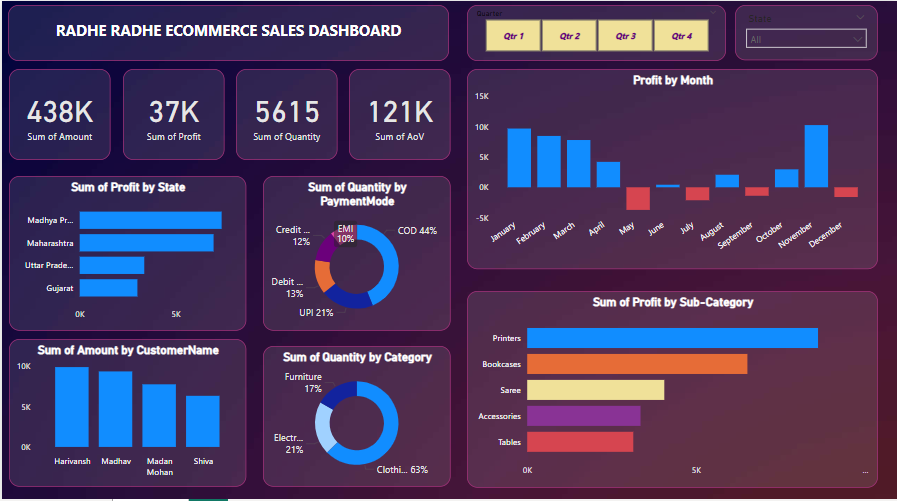

This screenshot's page, from the dashboard's own definition file:
{"tool":"powerbi","page":{"name":"Page 1","canvas":[1280,720],"ordinal":0},"visuals":[{"type":"textbox","box":[9,6,630,80],"z":0},{"type":"columnChart","title":"Profit by Month","fields":{"Category":["Orders.Order Date.Variation.Date Hierarchy.Month"],"Y":["Details.Profit"]},"box":[664.7,97.8,586.8,286.3],"z":1000},{"type":"barChart","fields":{"Category":["Details.Sub-Category"],"Y":["Details.Profit"]},"box":[664.7,413.9,586.8,280.6],"z":2000},{"type":"donutChart","fields":{"Category":["Details.Category"],"Y":["Details.Quantity"]},"box":[372.8,493.2,267.9,201.3],"z":3000},{"type":"donutChart","fields":{"Y":["Details.Quantity"],"Category":["Details.PaymentMode"]},"box":[372.8,249.4,267.9,221.1],"z":4000},{"type":"card","fields":{"Values":["Details.Amount"]},"box":[9.9,97.8,145,130],"z":5000},{"type":"card","fields":{"Values":["Details.Profit"]},"box":[172.9,97.8,145,130],"z":6000},{"type":"card","fields":{"Values":["Details.Quantity"]},"box":[334.5,97.8,145,130],"z":7000},{"type":"card","fields":{"Values":["Details.AoV"]},"box":[496.1,97.8,145,130],"z":8000},{"type":"barChart","fields":{"Y":["Details.Profit"],"Category":["Orders.State"]},"box":[9.9,249.4,338.7,221.1],"z":9000},{"type":"columnChart","fields":{"Category":["Orders.CustomerName"],"Y":["Details.Amount"]},"box":[9.9,483.3,338.7,211.2],"z":10000},{"type":"slicer","fields":{"Values":["Orders.Order Date.Variation.Date Hierarchy.Quarter"]},"box":[664.7,5.7,370,80],"z":11000},{"type":"slicer","fields":{"Values":["Orders.State"]},"box":[1047.4,5.7,204.1,79.4],"z":12000}]}

Visuals, with their boxes in screenshot pixels (x1, y1, x2, y2), scaled from the page's 1280x720 canvas onto the 897x501 screenshot:
textbox: BBox(6, 4, 448, 60)
"Profit by Month" columnChart: BBox(466, 68, 877, 267)
barChart - Details.Sub-Category x Details.Profit: BBox(466, 288, 877, 483)
donutChart - Details.Category x Details.Quantity: BBox(261, 343, 449, 483)
donutChart - Details.Quantity x Details.PaymentMode: BBox(261, 174, 449, 327)
card - Details.Amount: BBox(7, 68, 109, 159)
card - Details.Profit: BBox(121, 68, 223, 159)
card - Details.Quantity: BBox(234, 68, 336, 159)
card - Details.AoV: BBox(348, 68, 449, 159)
barChart - Details.Profit x Orders.State: BBox(7, 174, 244, 327)
columnChart - Orders.CustomerName x Details.Amount: BBox(7, 336, 244, 483)
slicer - Orders.Order Date.Variation.Date Hierarchy.Quarter: BBox(466, 4, 725, 60)
slicer - Orders.State: BBox(734, 4, 877, 59)
